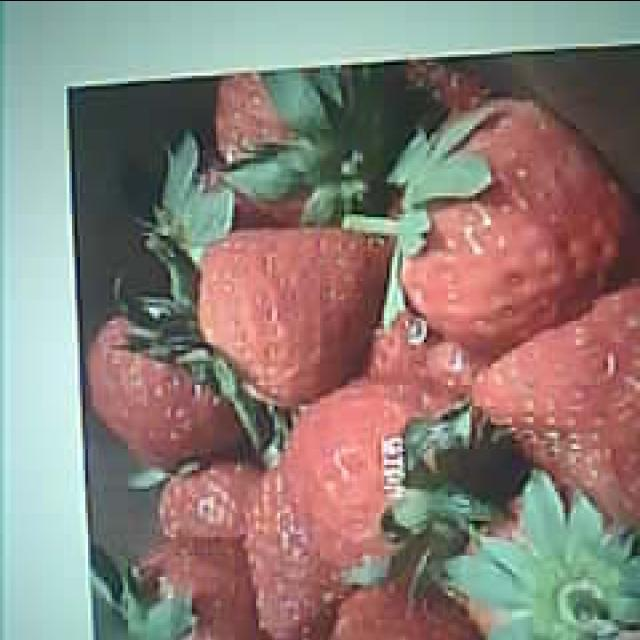ripe: (399, 101, 631, 341), (196, 225, 384, 401)
